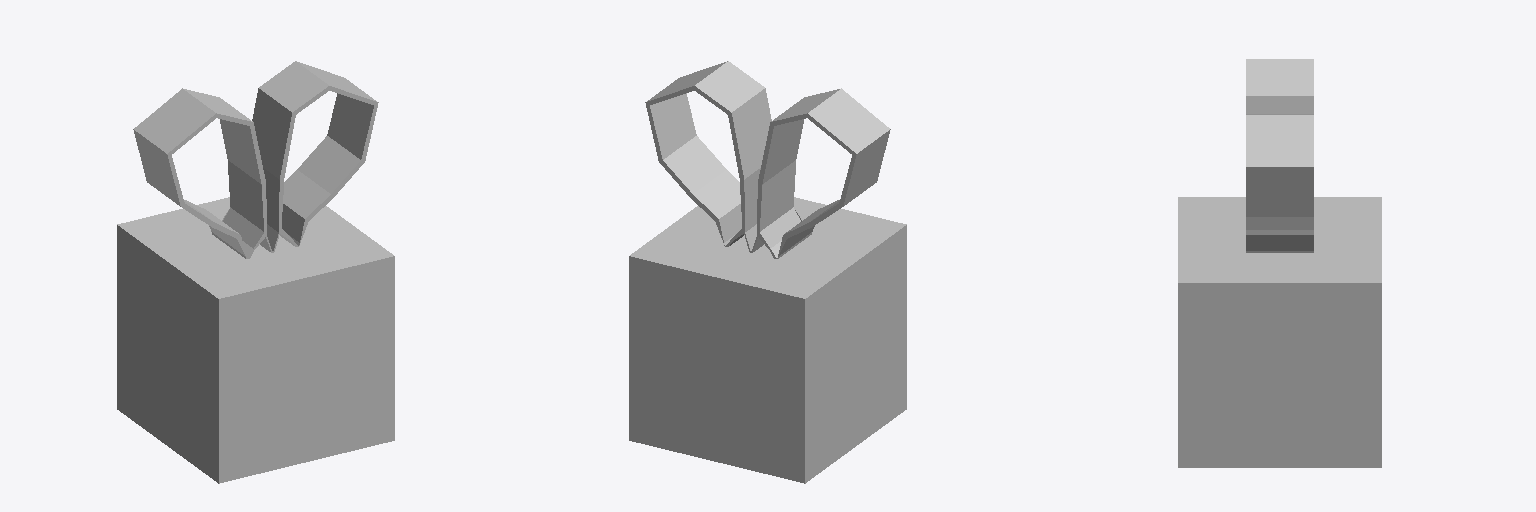
Rendered from Geschenk_alt.obj.
The picture shows the model from 3 angles: view 1: azimuth 30°, elevation 25°; view 2: azimuth 150°, elevation 25°; view 3: azimuth 270°, elevation 25°; orthographic projection.
Visible parts, largest first — view 1: Cube_Cube.002; view 2: Cube_Cube.002; view 3: Cube_Cube.002.
Boxes of the visible parts, <box> form: Cube_Cube.002: <box>117,61,394,483</box>; Cube_Cube.002: <box>629,61,906,483</box>; Cube_Cube.002: <box>1178,59,1381,467</box>.
Size of the model in its own units: 1.19 by 1.81 by 0.9888.